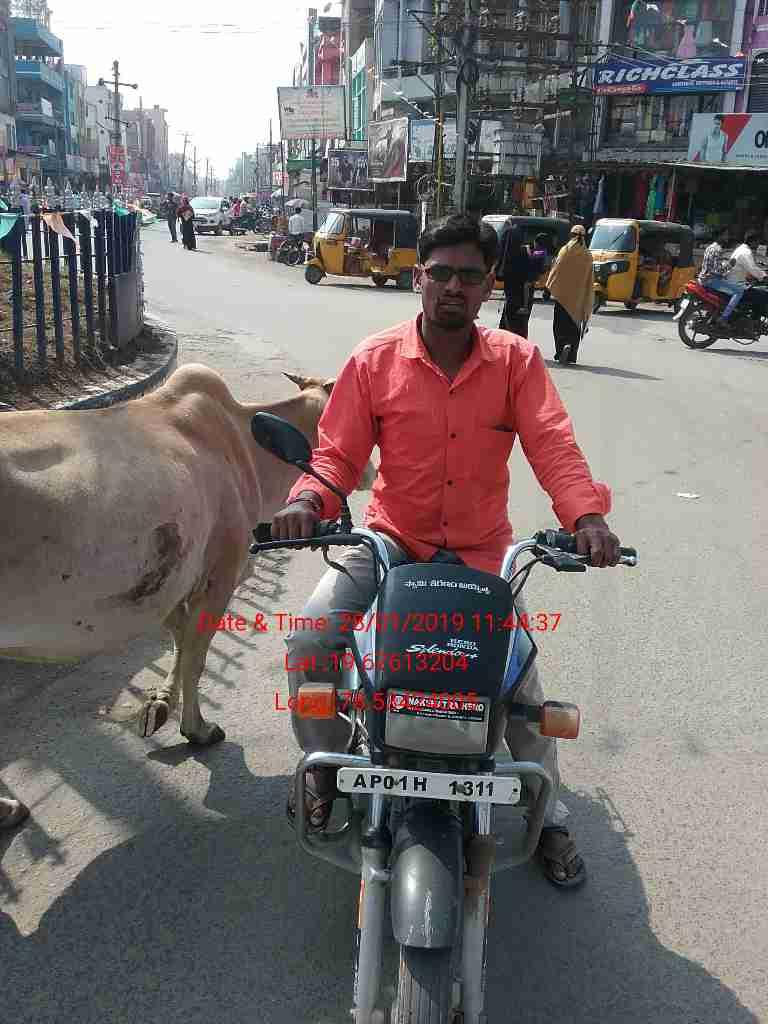plate: (330, 766, 529, 810)
